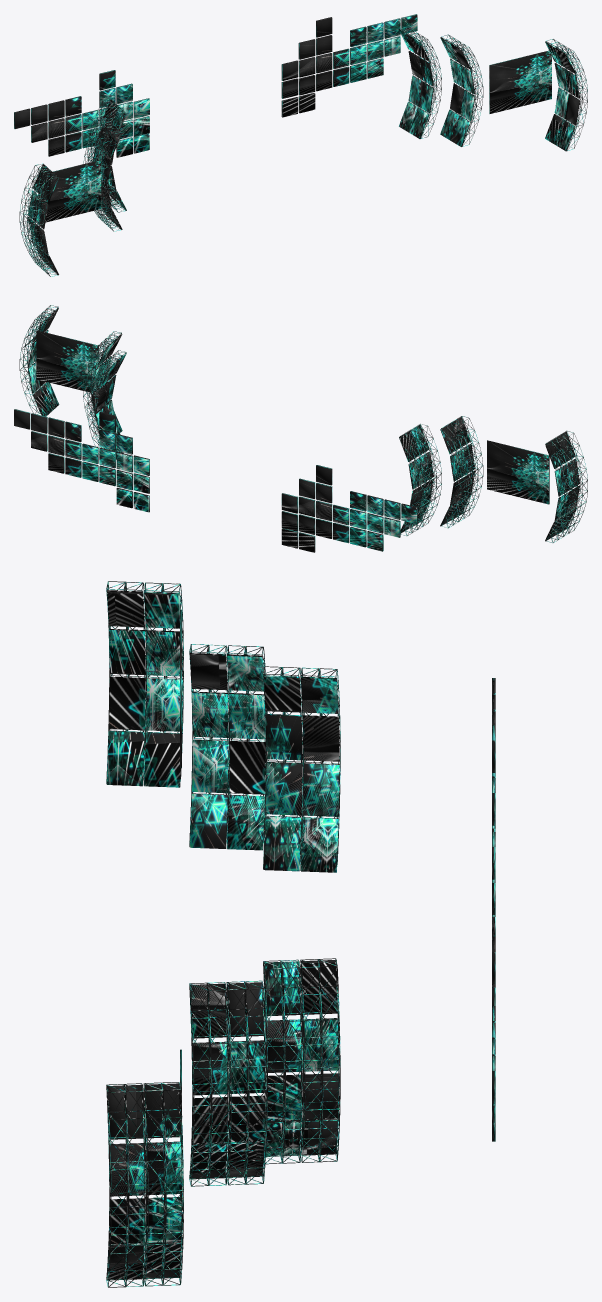
File: fuPIng.glb
3 renders of one model, top to bottom at view 1: azimuth 30°, elevation 25°; view 2: azimuth 150°, elevation 25°; view 3: azimuth 270°, elevation 25°, orthographic. The views are drawn at different scales.
Visible parts, largest first — view 1: fuPIng; view 2: fuPIng; view 3: fuPIng.
Part boxes in pixels (x1=…): fuPIng: x1=14, y1=14, x2=587, y2=276; fuPIng: x1=14, y1=305, x2=587, y2=552; fuPIng: x1=106, y1=581, x2=495, y2=1287.
Size of the model in its own units: 3.56 by 0.6624 by 1.09.
2 materials, 2 textured.
